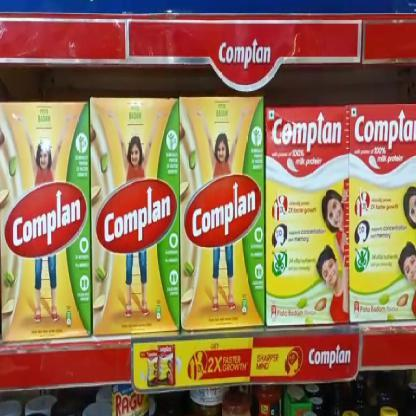Complan Pista Badam: (2, 101, 92, 336), (91, 98, 177, 332), (180, 96, 263, 328), (266, 106, 349, 323), (350, 105, 416, 322)
